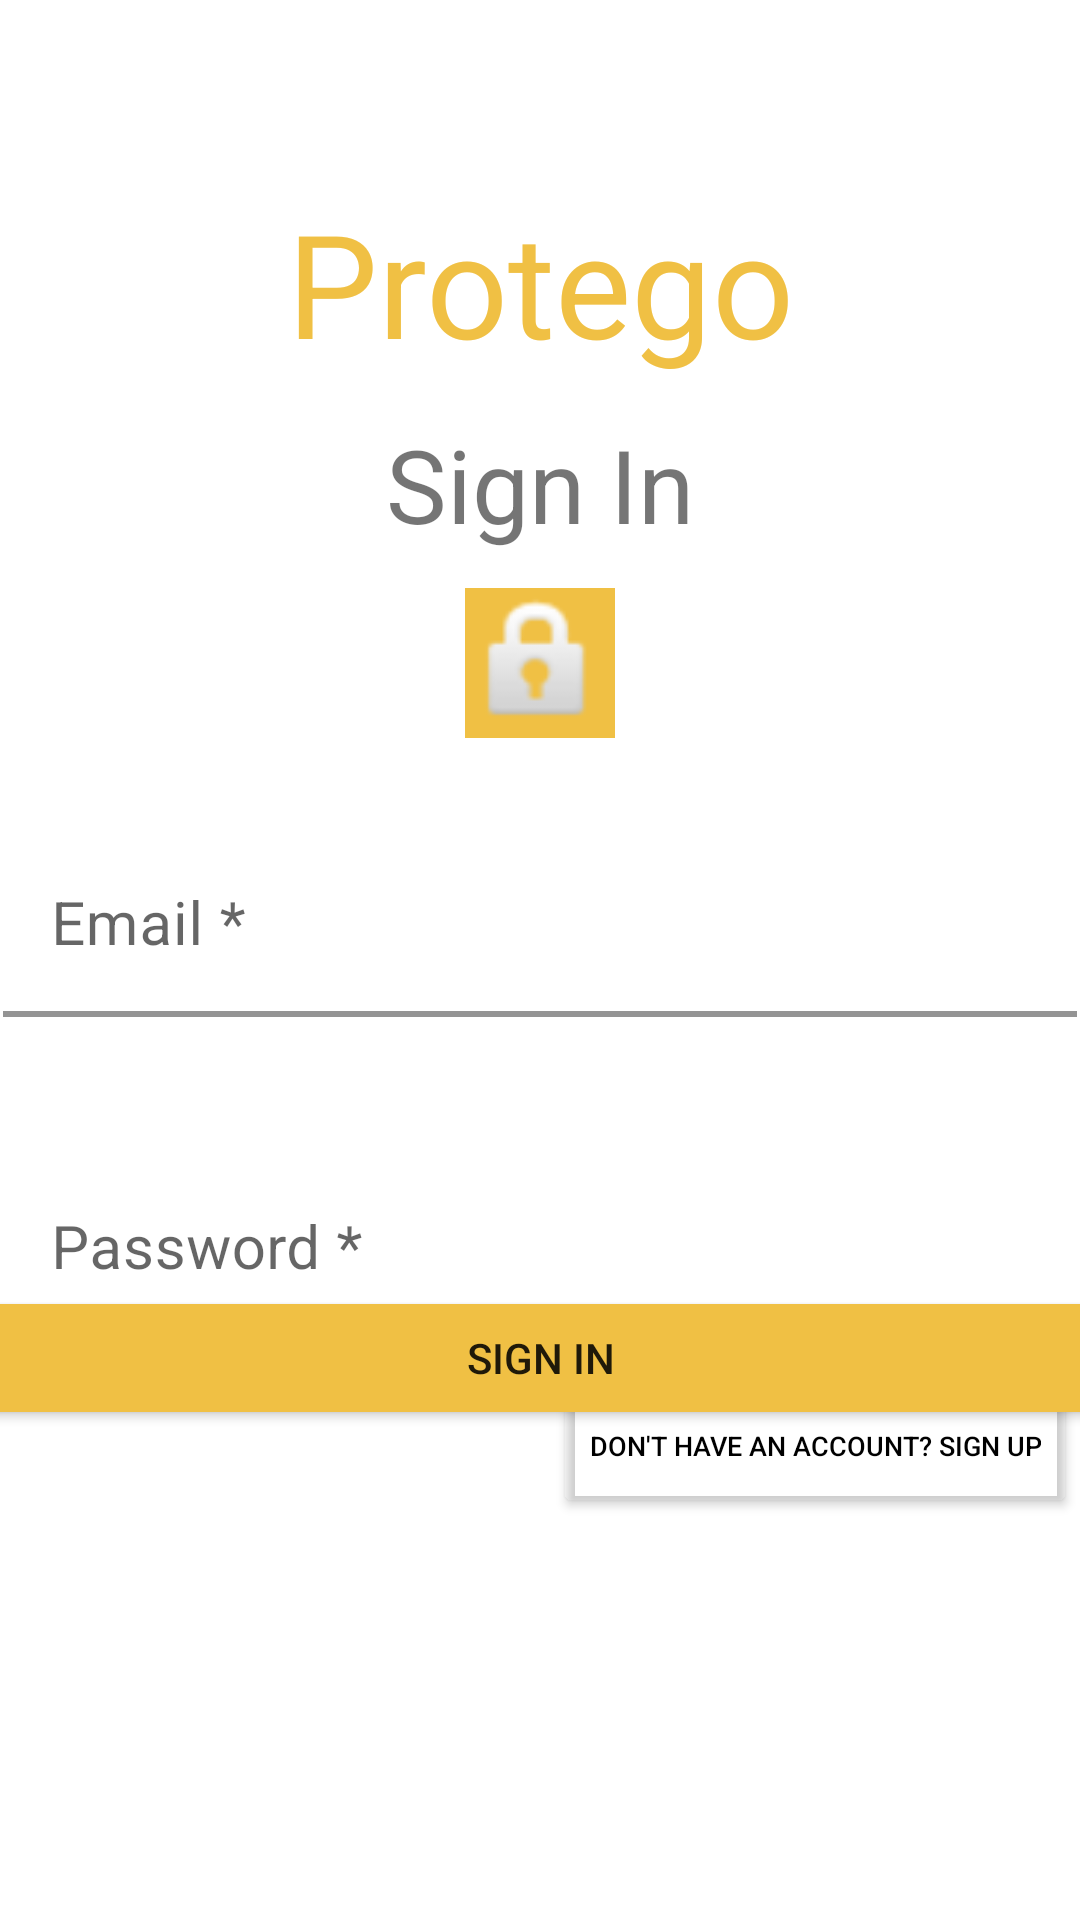

Where icons sit on this 1080x1920 app screen, as box=[x1, y1, x2, y2]:
lock idle: box=[465, 588, 615, 738]
